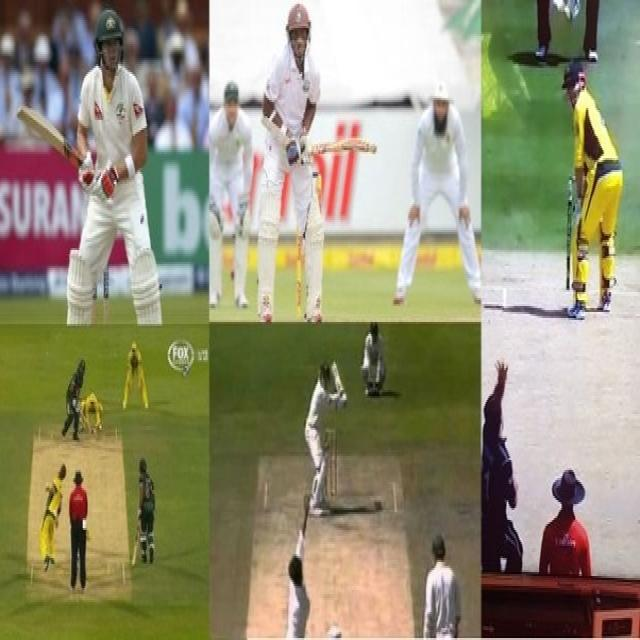stump: (323, 428, 339, 500), (91, 266, 110, 326), (296, 231, 303, 317), (311, 167, 324, 209)
